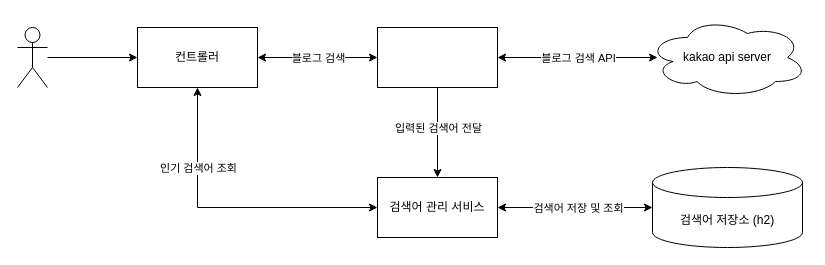
This 825x265 diagram has some shape labels left out. Here are the shapes that lost their labels. From the top down, the centre of each, then its label:
(x=32, y=57): Actor
(x=437, y=57): 블로그 검색 서비스
